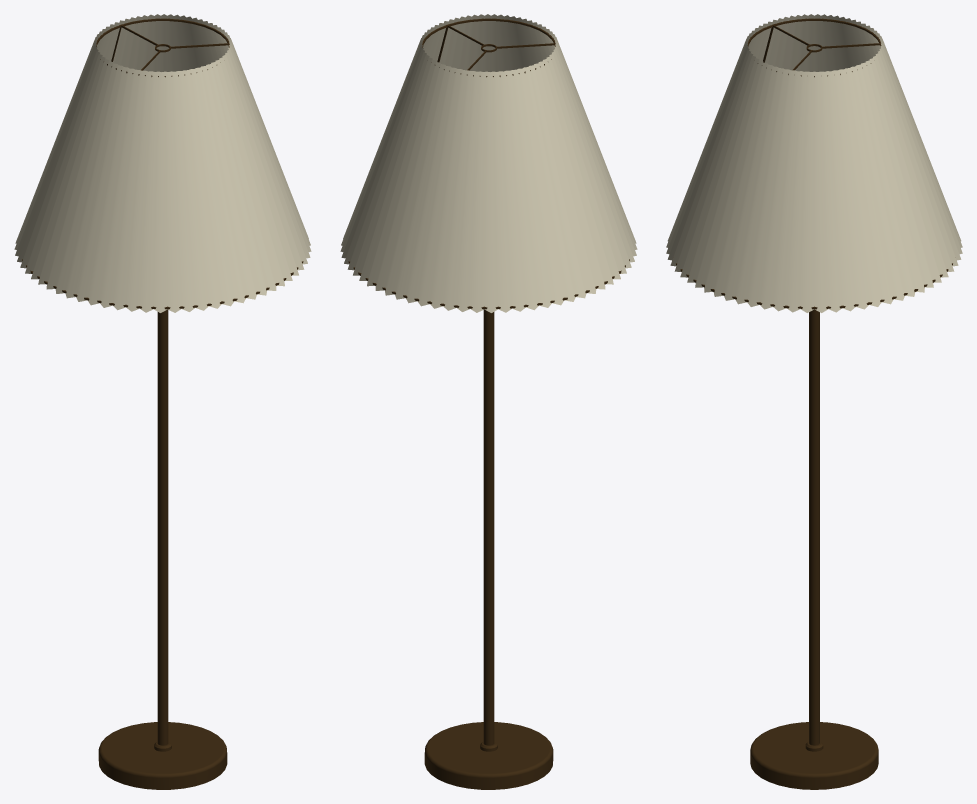
The model's file is AP_Lamp01_HB.fbx.
3 renders of one model, left to right at view 1: azimuth 30°, elevation 25°; view 2: azimuth 150°, elevation 25°; view 3: azimuth 270°, elevation 25°, orthographic.
Parts seen in each view (by area): view 1: pCylinder28, pCylinder22, pCylinder27; view 2: pCylinder28, pCylinder22, pCylinder27; view 3: pCylinder28, pCylinder22, pCylinder27.
Part boxes in pixels (box(x1,y1,x2,y2)): pCylinder28: box(14, 14, 311, 312); pCylinder22: box(98, 309, 227, 789); pCylinder27: box(22, 18, 303, 309); pCylinder28: box(340, 14, 637, 312); pCylinder22: box(424, 309, 553, 789); pCylinder27: box(348, 18, 629, 309); pCylinder28: box(666, 14, 962, 312); pCylinder22: box(750, 309, 878, 789); pCylinder27: box(676, 18, 952, 309).
Bounding box in the file's own units: 0.7324 × 1.96 × 0.7324.
